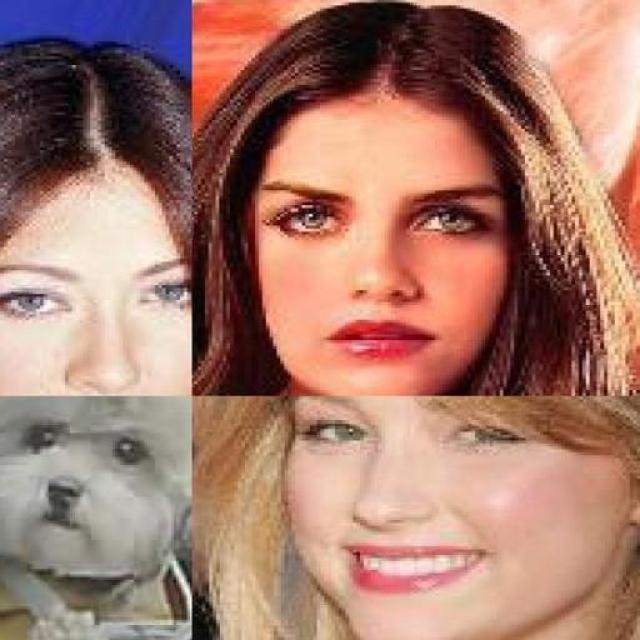bareface: (247, 92, 487, 372)
